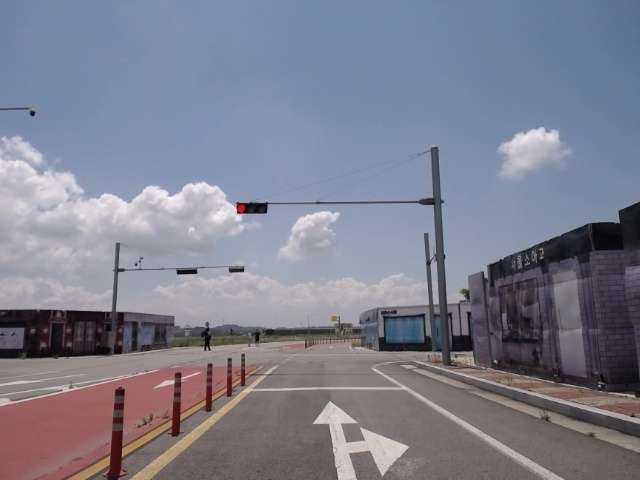red_3: (234, 202, 270, 213)
